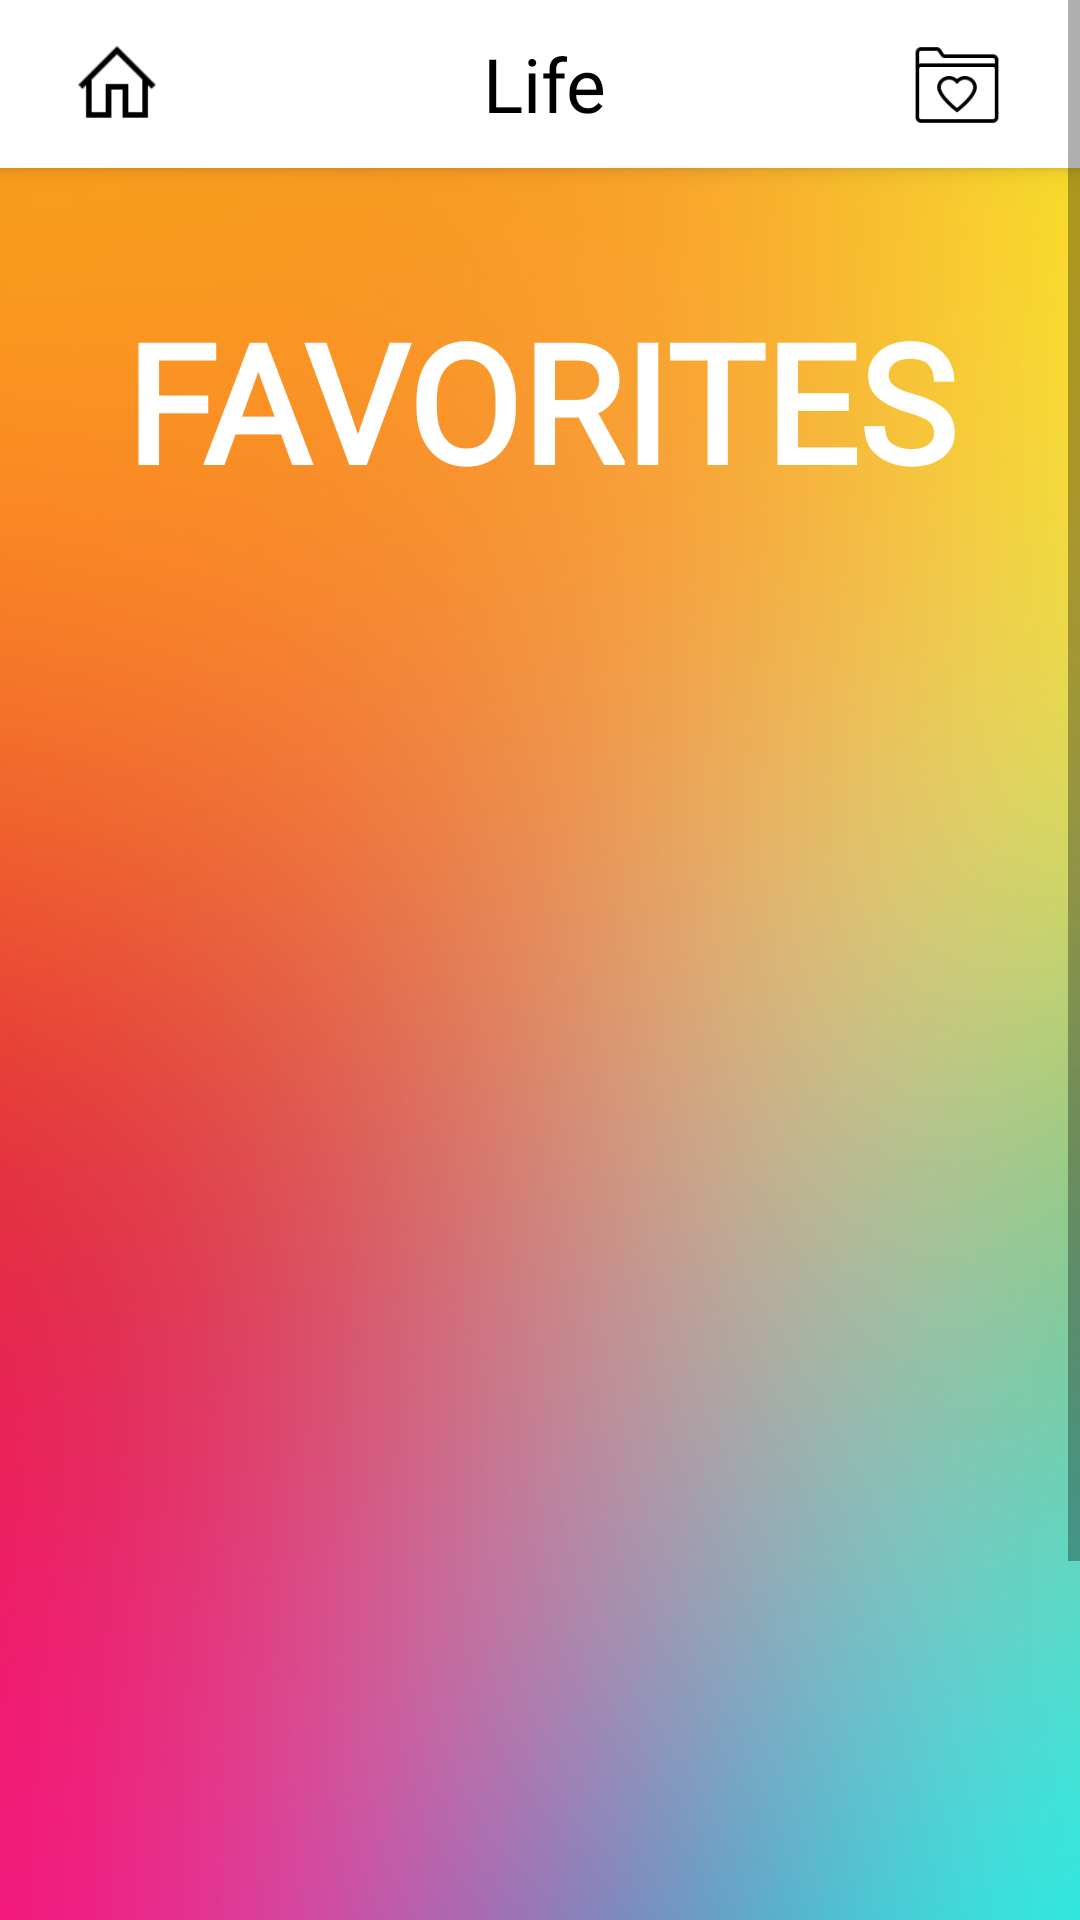

Point at icon controls on the screen. Image size 1080×1920, points as (x=x, y=y).
favorite folder: (x=957, y=85)
home: (x=117, y=82)
